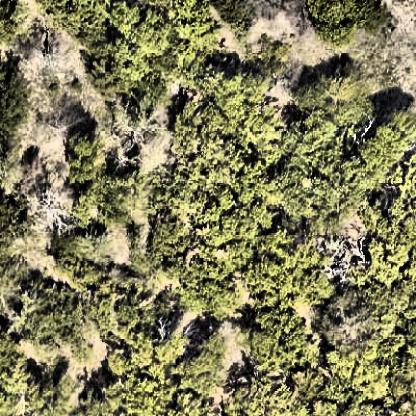tree-top: (172, 67, 273, 247), (271, 121, 369, 230), (115, 327, 233, 416), (104, 1, 172, 115), (20, 271, 92, 357), (245, 240, 337, 305), (294, 62, 383, 129), (365, 179, 416, 286), (242, 305, 321, 374), (177, 251, 242, 323), (300, 1, 394, 50), (75, 173, 144, 230), (320, 352, 389, 405), (360, 105, 410, 178), (321, 293, 379, 354), (238, 374, 311, 416), (1, 59, 33, 149), (175, 1, 223, 60), (1, 325, 32, 416), (23, 364, 72, 416), (49, 1, 109, 42), (59, 134, 103, 182), (1, 1, 38, 49), (1, 190, 24, 256)
